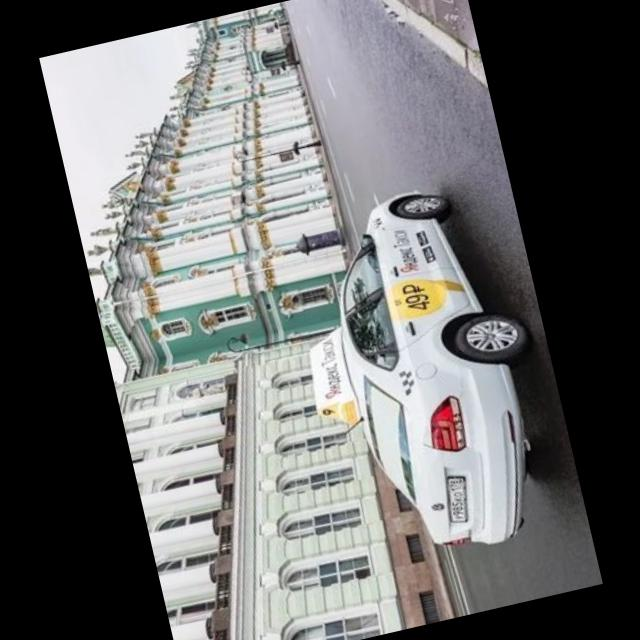taxi: (270, 172, 573, 578)
